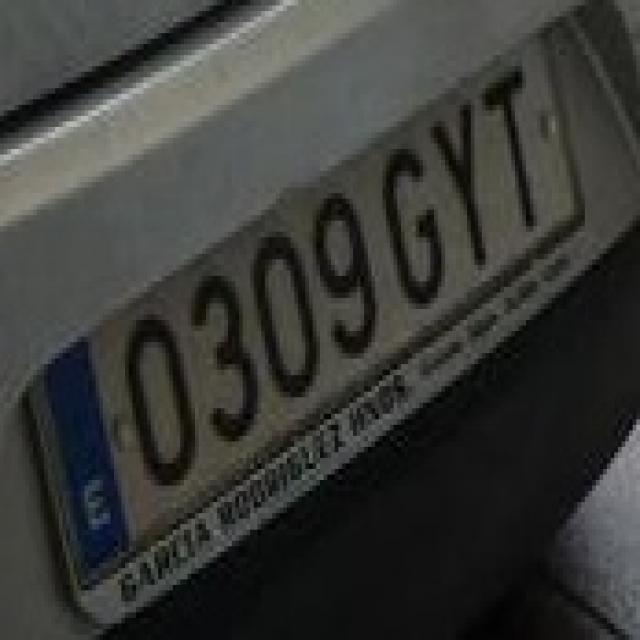licenseplate: (10, 2, 640, 633)
